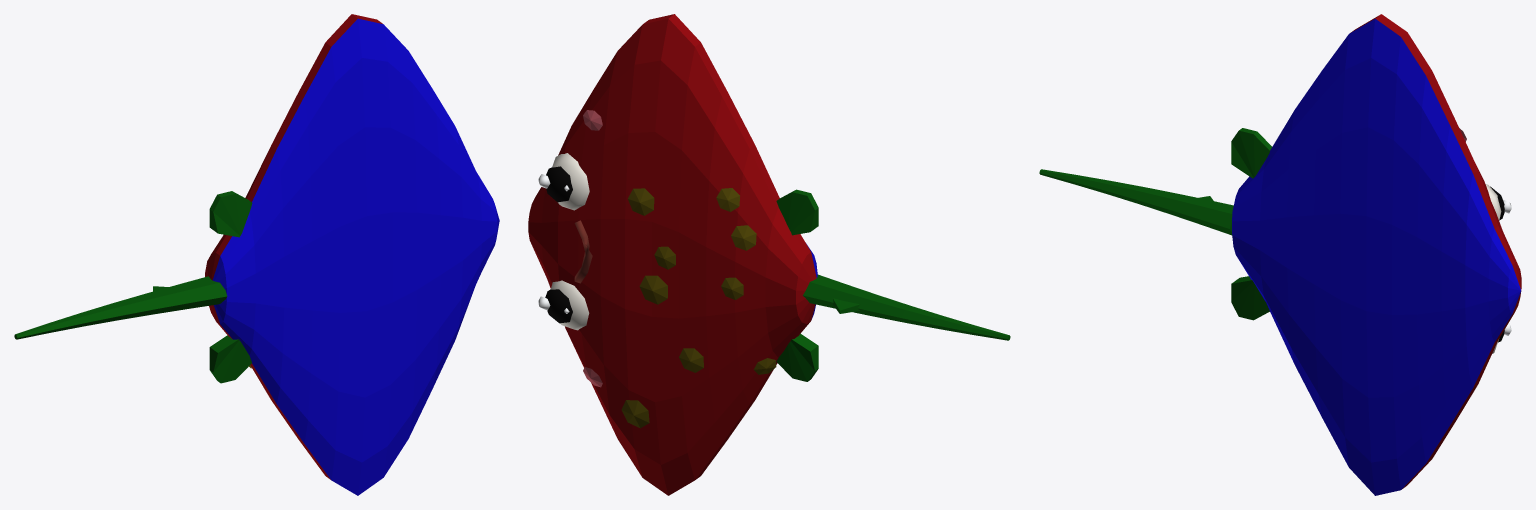
File: fish-flat.glb
3 views of the same model, side by side, from view 1: azimuth 30°, elevation 25°; view 2: azimuth 150°, elevation 25°; view 3: azimuth 330°, elevation 25° (orthographic).
Visible parts, largest first — view 1: body, tail; view 2: body, tail; view 3: body, tail.
Part boxes in pixels (box(x1,y1,x2,y2)): body: box(205, 14, 499, 495); tail: box(14, 276, 227, 339); body: box(528, 14, 818, 495); tail: box(803, 274, 1010, 340); body: box(1231, 14, 1521, 495); tail: box(1039, 169, 1233, 235).
Size of the model in its own units: 1.01 by 0.9521 by 0.1265.
